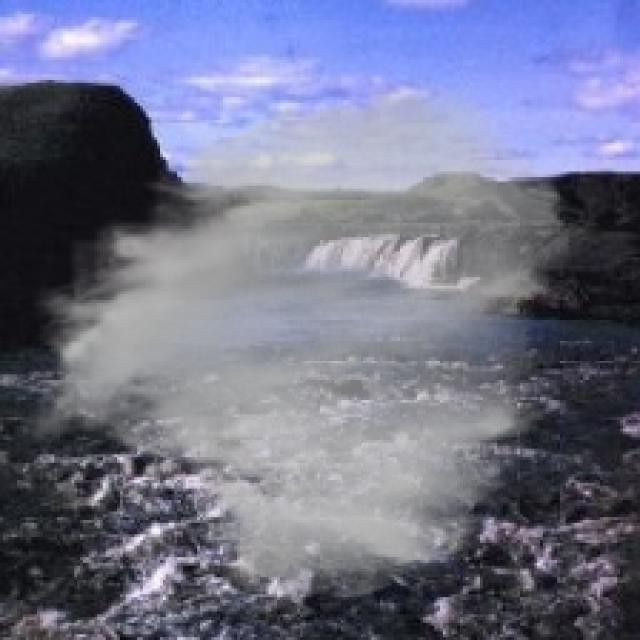Smoke: (19, 80, 574, 606)
